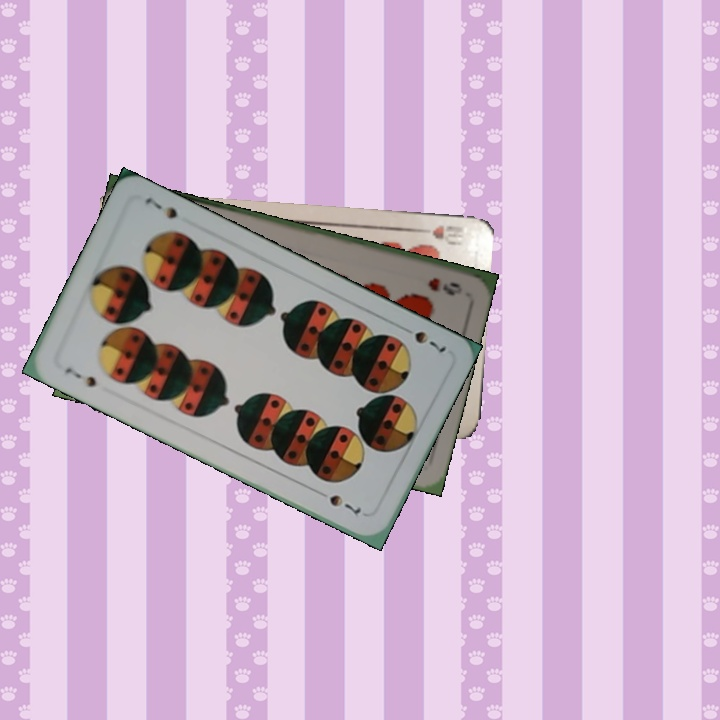H10: (411, 221, 465, 246)
H9: (423, 274, 465, 298)
S7: (410, 326, 449, 356), (61, 363, 99, 390)
